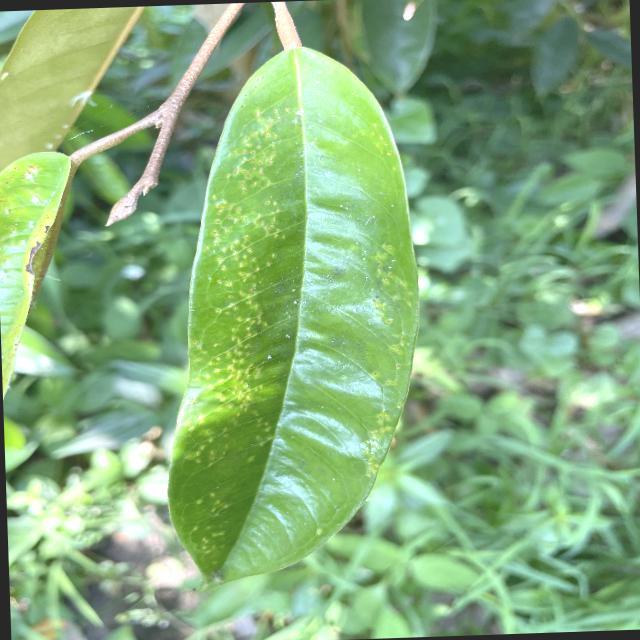Leaf Spot: (140, 33, 438, 606)
